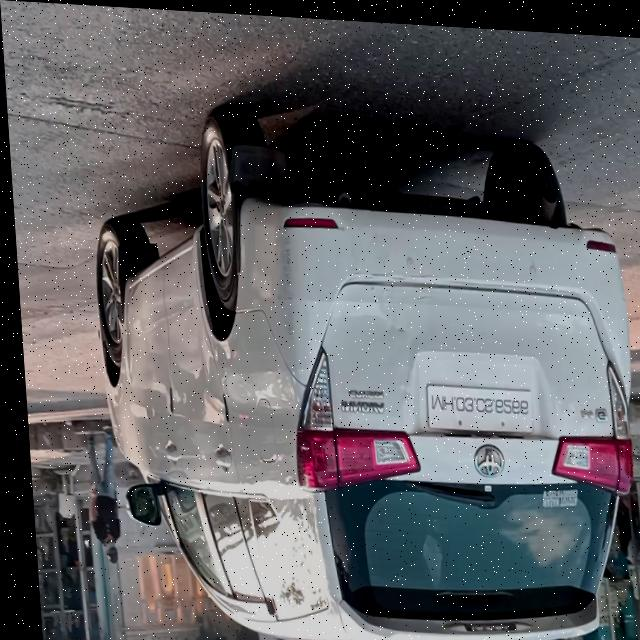plate: (417, 370, 531, 430)
